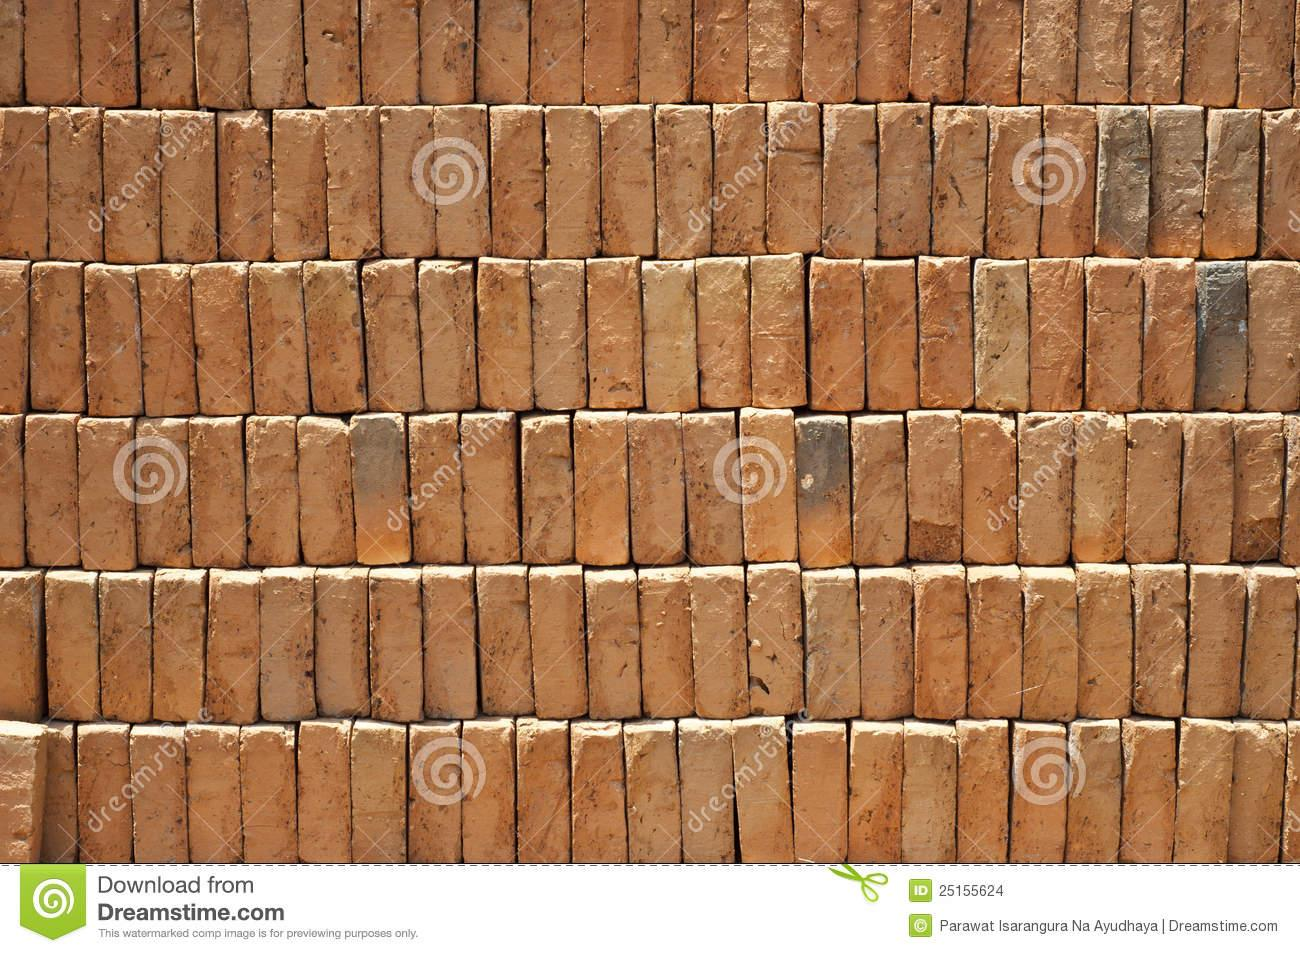brick: (304, 261, 366, 412), (191, 263, 252, 415), (248, 262, 309, 416), (681, 412, 741, 565), (137, 266, 197, 417), (84, 266, 143, 416), (433, 106, 492, 258), (77, 419, 135, 570), (362, 262, 422, 411), (351, 416, 411, 564), (1174, 719, 1235, 862), (160, 110, 218, 262), (1202, 109, 1261, 257), (103, 110, 159, 263), (419, 260, 476, 411), (655, 104, 711, 259), (973, 258, 1030, 411), (691, 569, 749, 719), (47, 107, 103, 261), (751, 253, 806, 408), (741, 407, 796, 561), (529, 572, 587, 719), (734, 722, 794, 863), (1086, 257, 1142, 411), (1017, 412, 1073, 565), (1188, 570, 1247, 716), (1126, 413, 1183, 563), (462, 414, 519, 564), (628, 414, 684, 564), (297, 418, 354, 565), (642, 260, 697, 413), (795, 415, 851, 567), (190, 419, 246, 568), (573, 412, 628, 566), (1041, 105, 1096, 256), (986, 107, 1042, 258), (587, 256, 643, 408), (477, 256, 532, 410), (809, 256, 864, 410), (1240, 573, 1298, 719), (1028, 258, 1084, 409), (531, 259, 586, 410), (748, 567, 804, 715), (767, 101, 822, 253), (1095, 105, 1150, 257), (907, 411, 963, 560), (823, 103, 876, 257), (1077, 567, 1131, 719), (1131, 567, 1187, 716), (918, 255, 972, 408), (381, 107, 435, 256), (545, 108, 600, 257), (476, 572, 534, 714), (260, 574, 316, 721), (1152, 105, 1205, 256), (1143, 257, 1195, 411), (206, 570, 258, 724), (713, 104, 766, 254), (933, 106, 986, 256), (273, 110, 326, 260), (696, 256, 750, 407), (864, 260, 917, 411), (852, 415, 905, 565), (136, 419, 191, 566), (878, 103, 931, 255), (490, 106, 542, 258), (327, 107, 380, 259), (1247, 261, 1300, 411), (25, 416, 79, 565), (30, 264, 85, 411), (1023, 574, 1078, 721), (804, 575, 860, 719), (963, 413, 1015, 564), (601, 106, 654, 254), (409, 414, 462, 562), (1179, 415, 1232, 563), (624, 725, 681, 862), (241, 725, 299, 862), (1073, 411, 1125, 561), (1228, 723, 1285, 862), (585, 574, 640, 719), (521, 415, 573, 564), (968, 574, 1022, 718), (865, 259, 916, 411), (219, 111, 272, 259), (1195, 261, 1248, 410), (423, 573, 476, 718), (316, 573, 369, 718), (639, 573, 692, 718), (45, 576, 99, 721), (1122, 719, 1176, 863), (186, 727, 242, 863), (914, 572, 967, 719), (152, 576, 205, 723), (678, 724, 734, 862), (571, 724, 627, 862), (246, 417, 298, 565), (861, 575, 913, 720), (369, 576, 422, 721), (1066, 723, 1119, 863), (849, 723, 902, 863), (130, 733, 188, 863), (99, 576, 150, 722), (1011, 723, 1065, 862), (351, 726, 406, 862), (956, 721, 1008, 862), (78, 725, 131, 863), (0, 107, 48, 259), (902, 722, 955, 862), (792, 729, 847, 862), (517, 724, 569, 862), (1233, 418, 1284, 560), (299, 723, 350, 862), (462, 726, 515, 862), (409, 727, 461, 863), (247, 0, 307, 109), (1236, 0, 1295, 109), (304, 0, 361, 108), (194, 0, 249, 110), (1184, 0, 1240, 107), (139, 0, 195, 108), (1, 570, 40, 722), (80, 0, 135, 107), (23, 0, 80, 104), (361, 0, 418, 104), (966, 0, 1021, 105), (1021, 0, 1078, 103), (909, 0, 966, 102), (584, 0, 639, 105), (1263, 108, 1300, 258), (803, 0, 858, 103), (419, 0, 472, 104), (530, 0, 583, 104), (694, 1, 749, 103), (1077, 0, 1130, 103), (748, 0, 802, 101), (1130, 0, 1183, 104), (639, 0, 691, 103), (858, 0, 910, 100), (477, 1, 528, 103), (0, 728, 36, 863), (41, 730, 76, 863), (110, 903, 110, 903)
